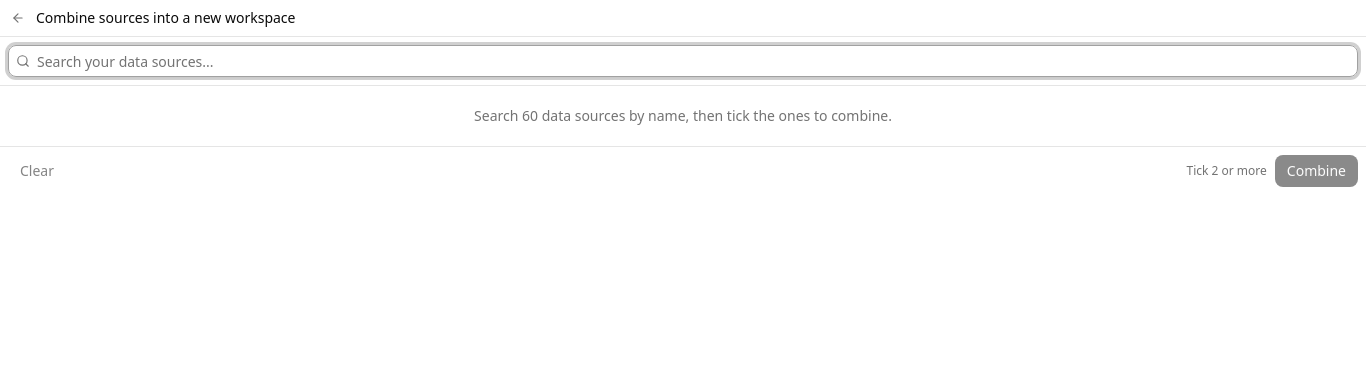
it: caps results and asks for a narrower search
The image size is (1366, 384).
In the field with test id "workspace-basket-search": (683, 61) left=8, top=45, right=1358, bottom=77, type "opp"
(page scrolled)
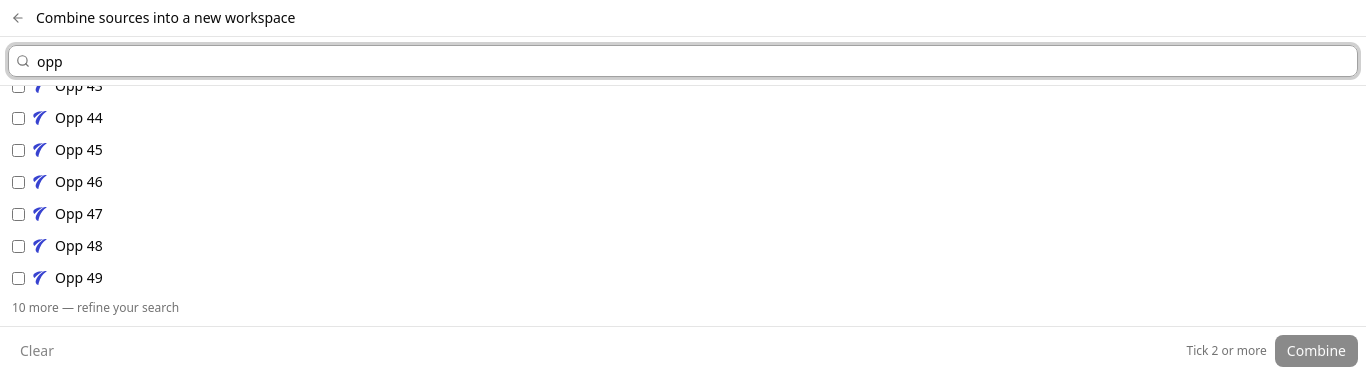
Check: the text with test id "workspace-basket-more" reads "10 more — refine your search", box left=12, top=299, right=179, bottom=316
